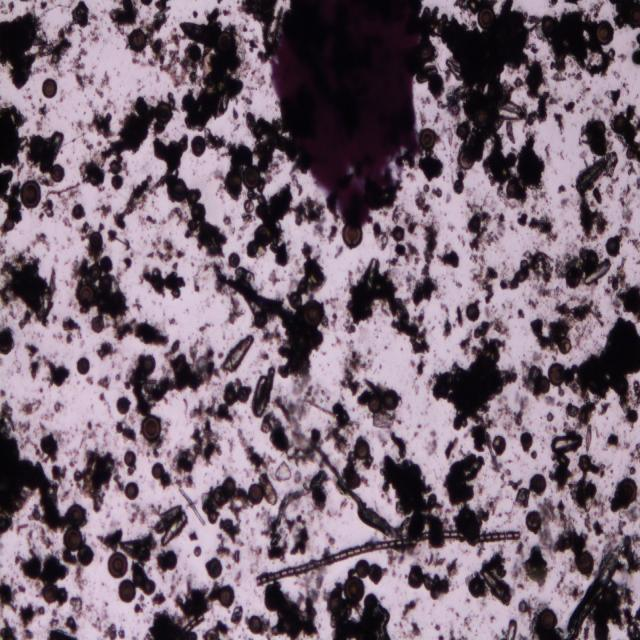Background material: (422, 0, 526, 161), (344, 251, 429, 356), (427, 337, 518, 431), (0, 413, 68, 533), (566, 314, 640, 418), (380, 451, 444, 549), (527, 11, 616, 80), (180, 51, 248, 132), (0, 247, 54, 332), (480, 133, 545, 202), (144, 349, 216, 408), (258, 395, 316, 466), (248, 179, 293, 270), (276, 306, 332, 378), (306, 389, 360, 457), (99, 96, 155, 161), (172, 418, 224, 486), (72, 449, 126, 512), (246, 112, 297, 178), (0, 14, 40, 93), (261, 592, 323, 639), (464, 550, 513, 606), (149, 33, 200, 86), (329, 600, 394, 640), (412, 215, 440, 307), (500, 247, 554, 290), (442, 453, 486, 505), (574, 152, 618, 203), (174, 574, 224, 618), (114, 175, 154, 229), (181, 5, 225, 54), (10, 548, 68, 584), (124, 357, 158, 418), (264, 512, 305, 562), (573, 188, 609, 244), (549, 432, 583, 491), (35, 21, 71, 76), (525, 54, 551, 130), (0, 96, 26, 171), (107, 318, 171, 348), (609, 104, 640, 165), (568, 453, 600, 512), (26, 128, 64, 177), (234, 427, 274, 473), (341, 342, 375, 395), (140, 260, 186, 299), (494, 392, 532, 439), (553, 243, 601, 280), (144, 608, 199, 640), (153, 137, 189, 185), (470, 422, 502, 476), (293, 192, 328, 240), (0, 165, 24, 235), (182, 397, 236, 428), (298, 240, 327, 297), (217, 334, 257, 375), (466, 207, 504, 250), (185, 219, 227, 257), (469, 249, 498, 304), (553, 297, 606, 327), (287, 373, 333, 407), (39, 181, 77, 222), (86, 97, 120, 142), (154, 502, 188, 546), (246, 308, 287, 344), (68, 254, 92, 315), (562, 397, 597, 438), (79, 141, 107, 192), (37, 422, 70, 465), (93, 282, 129, 320), (74, 419, 114, 453), (531, 316, 573, 348), (578, 119, 615, 155), (521, 544, 551, 588), (179, 488, 211, 529), (452, 502, 490, 536), (145, 0, 173, 46), (252, 366, 276, 419), (17, 521, 58, 552), (192, 258, 228, 292), (218, 501, 244, 547), (120, 530, 156, 562), (296, 569, 332, 601), (139, 419, 171, 455), (552, 524, 589, 555), (538, 495, 556, 556), (109, 0, 140, 35), (528, 610, 564, 640), (41, 353, 71, 388), (12, 418, 40, 455), (146, 235, 184, 262), (0, 575, 26, 614), (254, 17, 276, 63), (604, 255, 628, 297), (608, 0, 640, 31), (614, 282, 640, 320), (388, 242, 420, 272), (530, 214, 558, 248), (226, 140, 254, 174), (64, 0, 90, 36), (240, 0, 282, 22), (22, 339, 44, 381), (520, 360, 542, 401), (222, 287, 246, 324), (619, 532, 640, 574), (124, 500, 160, 524), (466, 186, 498, 213), (44, 616, 80, 640), (475, 318, 511, 342), (108, 228, 138, 256), (424, 570, 452, 599), (436, 84, 464, 113), (216, 531, 240, 564), (85, 597, 107, 632), (190, 322, 214, 354), (369, 218, 392, 251), (204, 128, 230, 157), (418, 151, 444, 180), (556, 575, 586, 600), (228, 489, 252, 520), (51, 464, 70, 503), (118, 413, 140, 446), (573, 318, 595, 351), (257, 472, 279, 504), (436, 241, 460, 270), (210, 166, 230, 200), (328, 294, 341, 346), (26, 232, 52, 258), (57, 189, 82, 216), (381, 548, 404, 577), (555, 498, 575, 531), (387, 430, 409, 460), (19, 601, 45, 626), (58, 318, 84, 343), (622, 604, 640, 640), (582, 97, 610, 120), (454, 0, 498, 14), (96, 531, 125, 552), (254, 505, 276, 532), (403, 204, 421, 237), (201, 489, 217, 526), (620, 182, 634, 224), (234, 213, 254, 242), (128, 560, 148, 589), (423, 425, 440, 459), (530, 282, 566, 298), (158, 205, 186, 225), (610, 484, 628, 513), (232, 377, 252, 403), (69, 47, 89, 73), (439, 302, 453, 339), (459, 327, 473, 364), (372, 412, 402, 429), (94, 339, 117, 361), (85, 240, 106, 264), (401, 597, 421, 622), (397, 620, 422, 640), (599, 529, 617, 556), (600, 431, 622, 453), (532, 192, 554, 214), (426, 76, 446, 100), (169, 571, 184, 602), (416, 190, 432, 219), (0, 617, 20, 640), (582, 1, 606, 20), (290, 168, 306, 196), (216, 31, 236, 53), (273, 462, 293, 484), (214, 616, 234, 638), (502, 76, 524, 96), (512, 559, 526, 590), (246, 541, 260, 572), (409, 354, 427, 378), (448, 141, 459, 180), (0, 387, 14, 417), (604, 175, 620, 201), (131, 53, 157, 69), (21, 396, 44, 414), (67, 504, 85, 527), (594, 492, 608, 521), (74, 564, 88, 593), (105, 620, 125, 640), (518, 598, 536, 620), (618, 504, 640, 522), (422, 550, 444, 568), (501, 618, 519, 640), (437, 123, 455, 145), (340, 452, 355, 478), (136, 214, 160, 230), (444, 436, 461, 458), (162, 338, 181, 357), (76, 70, 95, 89), (240, 34, 260, 52), (445, 556, 460, 579), (501, 299, 516, 322), (251, 66, 267, 87), (69, 596, 83, 620), (222, 213, 237, 235), (241, 84, 256, 106), (630, 33, 640, 66), (27, 506, 45, 524), (95, 200, 113, 218), (229, 603, 243, 626), (75, 119, 88, 143), (622, 584, 636, 606), (604, 88, 622, 105), (485, 496, 501, 515), (628, 238, 640, 263), (516, 487, 530, 508), (157, 549, 167, 578), (61, 549, 78, 566), (77, 222, 93, 240), (533, 595, 551, 611), (23, 86, 35, 110), (89, 22, 101, 45), (576, 85, 592, 102), (150, 591, 168, 606), (505, 120, 515, 147), (504, 503, 516, 525), (622, 160, 638, 176), (97, 392, 111, 410), (554, 111, 564, 136), (630, 440, 640, 464), (500, 468, 512, 488), (96, 374, 112, 389), (358, 388, 370, 408), (377, 429, 389, 449), (134, 594, 146, 614), (619, 224, 631, 244), (565, 68, 582, 82), (326, 506, 344, 519), (482, 305, 500, 318), (37, 101, 50, 119), (631, 378, 640, 404), (593, 518, 605, 537), (392, 204, 404, 223), (380, 490, 395, 505), (255, 347, 270, 362), (525, 296, 539, 312), (160, 470, 173, 487), (241, 17, 254, 34), (583, 512, 593, 534), (132, 295, 144, 313), (516, 209, 528, 227), (516, 539, 526, 560), (58, 586, 68, 607), (597, 401, 611, 416), (62, 237, 76, 252), (168, 92, 179, 111), (0, 1, 16, 14), (532, 350, 548, 363), (545, 142, 553, 168), (328, 224, 340, 241), (101, 68, 111, 88), (19, 626, 33, 640), (456, 304, 464, 328), (548, 93, 564, 105), (34, 116, 46, 132), (122, 254, 134, 270), (269, 268, 279, 287), (166, 314, 179, 328), (552, 72, 566, 85), (109, 160, 122, 174), (456, 163, 466, 181), (560, 196, 572, 211), (24, 1, 36, 16), (508, 218, 518, 235), (49, 610, 59, 627), (136, 77, 148, 91), (154, 124, 166, 138), (508, 479, 523, 490), (525, 42, 540, 53), (567, 555, 576, 573), (475, 543, 485, 559), (600, 461, 608, 481), (77, 27, 87, 43), (564, 101, 576, 114), (54, 401, 66, 414), (334, 243, 345, 257), (294, 468, 304, 483), (360, 474, 370, 489), (192, 544, 202, 559), (622, 79, 632, 94), (544, 395, 556, 407), (235, 568, 243, 586), (62, 216, 74, 228), (544, 425, 560, 434), (563, 219, 575, 231), (433, 114, 443, 128), (12, 358, 22, 372), (94, 86, 104, 100), (464, 614, 472, 631), (232, 106, 240, 123), (57, 89, 66, 104), (187, 531, 199, 542), (431, 186, 443, 197), (612, 68, 623, 80), (406, 171, 418, 182), (325, 533, 335, 546), (457, 234, 467, 247), (516, 307, 526, 320), (618, 520, 626, 536), (419, 109, 427, 125), (584, 619, 590, 640), (421, 97, 432, 108), (452, 278, 463, 289), (222, 7, 234, 17), (324, 545, 332, 560), (558, 182, 568, 194), (414, 379, 421, 395), (85, 375, 94, 387), (564, 0, 582, 6), (340, 498, 348, 511), (477, 615, 485, 628), (449, 619, 455, 636), (546, 411, 555, 422), (517, 632, 529, 640), (558, 385, 566, 397), (619, 52, 627, 64), (96, 222, 105, 232), (627, 466, 637, 475), (559, 150, 568, 160), (594, 425, 600, 440), (448, 222, 457, 232), (489, 613, 496, 625), (634, 176, 640, 190), (190, 9, 198, 19), (548, 0, 558, 8), (39, 1, 47, 10), (90, 14, 100, 21), (622, 440, 629, 450), (555, 400, 565, 407), (423, 183, 430, 193), (455, 610, 461, 621), (446, 193, 452, 203), (100, 8, 110, 14), (504, 458, 514, 464), (434, 623, 441, 631), (541, 466, 548, 473), (607, 462, 613, 470), (532, 451, 538, 459), (552, 354, 558, 362), (524, 536, 530, 544), (39, 388, 44, 396), (404, 574, 408, 580), (414, 432, 418, 438), (417, 425, 423, 429), (216, 0, 223, 3), (610, 468, 613, 474)
Cellulose filter fibre: (307, 442, 406, 538), (564, 544, 622, 638), (268, 478, 322, 538)
Cotton: (218, 276, 324, 344)
Diatom: (255, 532, 521, 586), (21, 180, 43, 211), (584, 260, 612, 284), (494, 100, 524, 121), (304, 299, 324, 327), (344, 577, 365, 603), (108, 552, 128, 578), (127, 27, 147, 52), (142, 415, 160, 442), (153, 101, 173, 125), (343, 226, 363, 250), (620, 476, 637, 503), (64, 528, 82, 552), (263, 591, 283, 612), (597, 21, 614, 45), (526, 510, 543, 534), (169, 179, 187, 201), (243, 165, 260, 188), (119, 579, 136, 602), (408, 566, 424, 590), (219, 584, 235, 608), (549, 362, 565, 386), (183, 613, 204, 631), (478, 8, 495, 30), (415, 66, 437, 83), (577, 552, 594, 574), (190, 136, 206, 158), (420, 128, 436, 150), (383, 388, 398, 411), (540, 609, 556, 630), (78, 546, 94, 567), (78, 285, 95, 304), (206, 558, 222, 578), (248, 484, 264, 504), (531, 474, 547, 494), (256, 224, 270, 246), (43, 584, 59, 603), (42, 78, 58, 97), (0, 331, 13, 354), (355, 438, 369, 459), (566, 268, 580, 289), (50, 163, 64, 183), (606, 236, 620, 256), (492, 436, 506, 456), (474, 108, 488, 128), (223, 477, 236, 498), (331, 596, 345, 615), (125, 481, 139, 500), (249, 615, 263, 634), (368, 394, 382, 413), (143, 355, 156, 375), (191, 202, 206, 219), (288, 292, 302, 310), (460, 152, 474, 170), (466, 302, 480, 320), (356, 560, 370, 578), (559, 336, 573, 354), (76, 356, 90, 374), (614, 114, 628, 132), (228, 174, 242, 192), (212, 486, 225, 505), (542, 15, 555, 34), (520, 430, 533, 449), (92, 315, 105, 334), (116, 397, 131, 413), (166, 550, 178, 570), (188, 45, 202, 62), (186, 188, 200, 205), (448, 59, 461, 77), (224, 388, 237, 406), (629, 7, 640, 28), (347, 469, 359, 488), (538, 376, 550, 395), (420, 41, 432, 60), (595, 623, 609, 639), (142, 580, 156, 596), (89, 263, 102, 280), (457, 122, 469, 140), (392, 226, 405, 242), (365, 593, 378, 609), (90, 232, 102, 249), (101, 256, 113, 273), (72, 204, 85, 219), (100, 275, 112, 291), (124, 450, 136, 466), (152, 462, 164, 478), (50, 268, 56, 299), (111, 175, 123, 190), (229, 252, 240, 268), (506, 182, 517, 198), (586, 424, 592, 451), (454, 179, 464, 194), (206, 628, 218, 640), (46, 484, 56, 498), (5, 218, 15, 231), (244, 200, 254, 213), (628, 410, 638, 422), (248, 243, 257, 255), (517, 270, 525, 283), (626, 149, 635, 159), (569, 405, 576, 417), (140, 0, 153, 6)
Pen: (270, 0, 420, 219)
